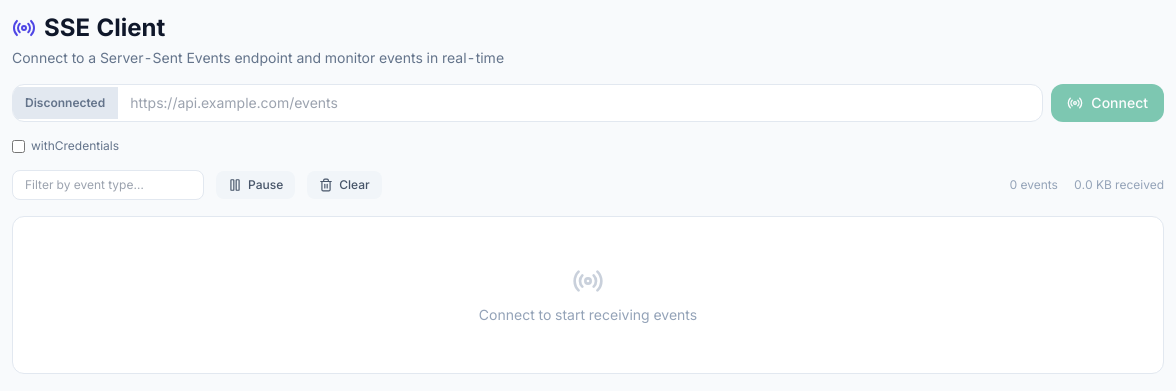
Scenario: SSEClient page › shows Disconnect button after connecting
The image size is (1176, 391).
Type "https://example.com/events" into the field with placeholder "https://api.example.com/events". click: (580,103)
box: [118, 85, 1042, 121]
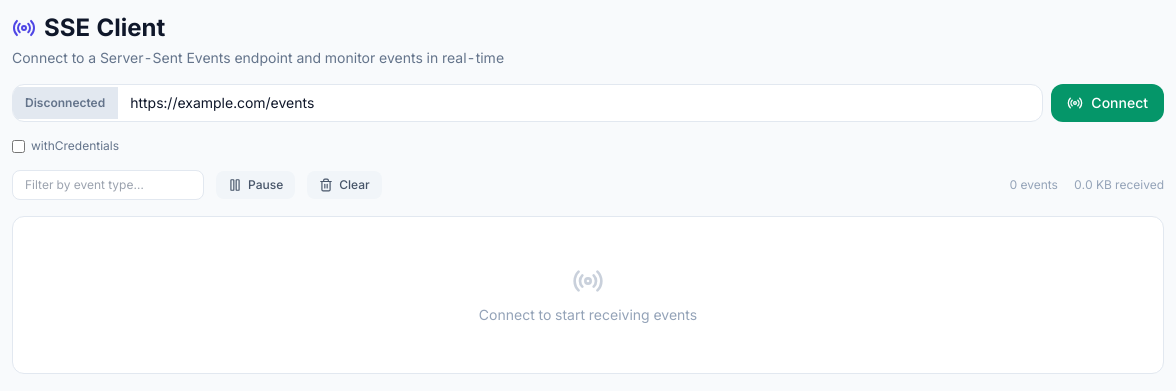
Click the button "Connect". click: (1108,103)
box: [1051, 84, 1164, 122]
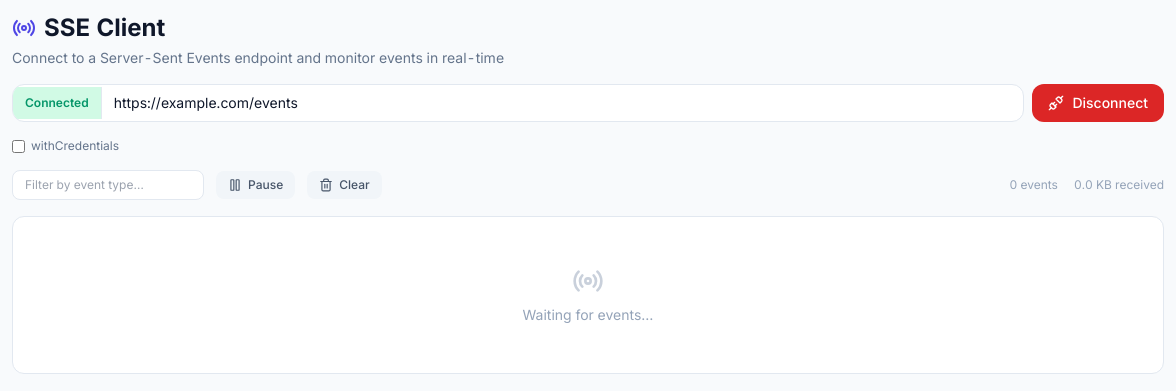
Expected: the button "Disconnect" is shown, [1032, 84, 1164, 122]
